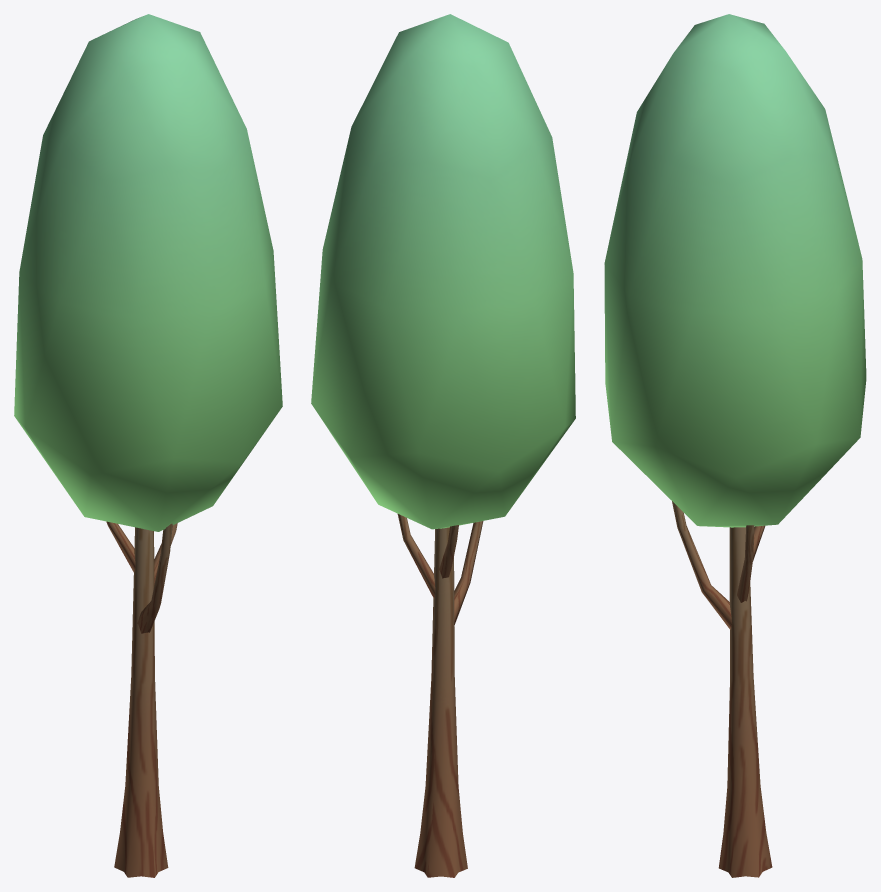
Rendered from TallTree.fbx.
The picture shows the model from 3 angles, left to right: view 1: azimuth 30°, elevation 25°; view 2: azimuth 150°, elevation 25°; view 3: azimuth 270°, elevation 25°; orthographic projection.
Visible parts, largest first — view 1: TallTree; view 2: TallTree; view 3: TallTree.
Boxes of the visible parts, x1,y1,x2,y2 form: TallTree: (14,14,282,877); TallTree: (311,14,575,877); TallTree: (604,14,866,877).
Bounding box in the file's own units: 166 × 583 × 162.
